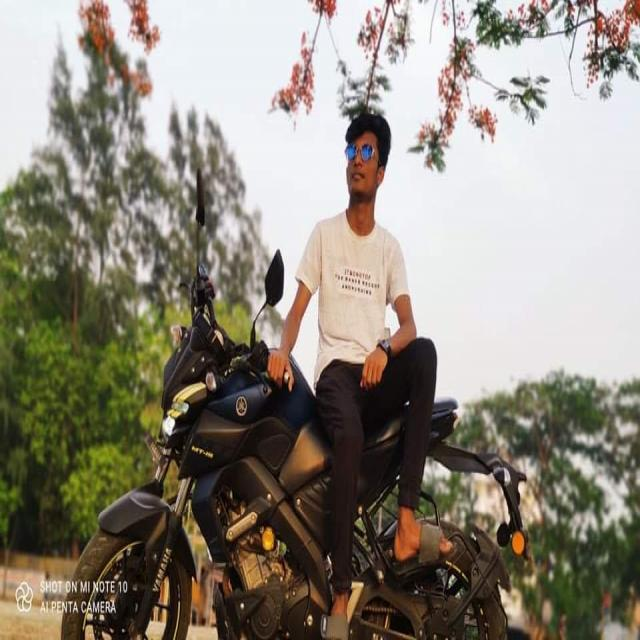No helmet: (336, 116, 396, 219)
